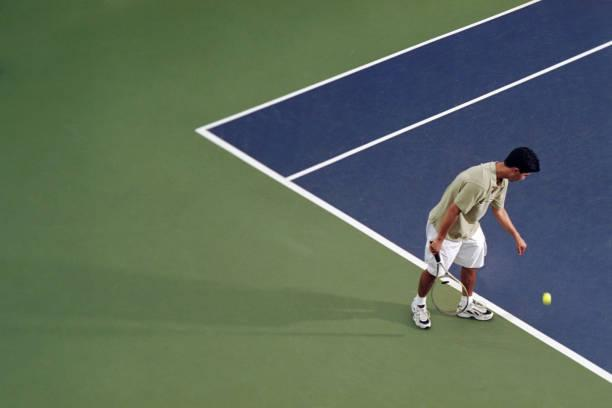ball_tennis: (542, 292, 552, 305)
